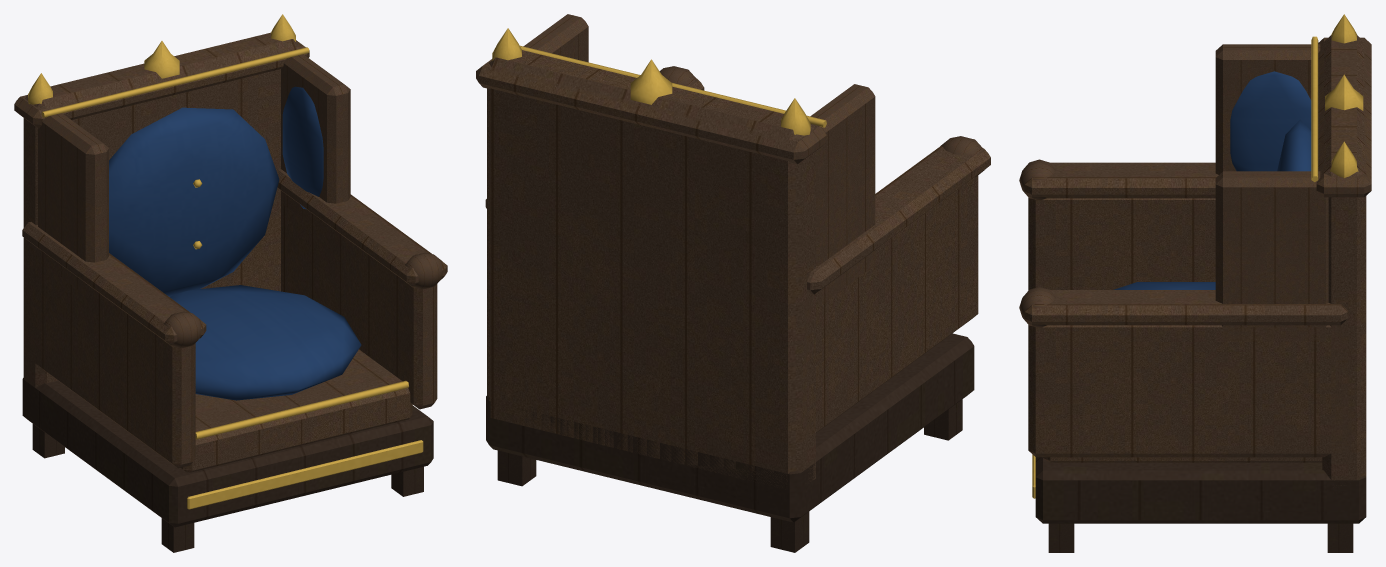
Rendered from armchair_lod1.glb.
3 renders of one model, left to right at view 1: azimuth 30°, elevation 25°; view 2: azimuth 150°, elevation 25°; view 3: azimuth 270°, elevation 25°, orthographic. The views are drawn at different scales.
Visible parts, largest first — view 1: armchair; view 2: armchair; view 3: armchair.
Part boxes in pixels (x1,y1,x2,y2): armchair: (14, 14, 447, 552); armchair: (476, 14, 990, 552); armchair: (1019, 14, 1371, 552).
Bounding box in the file's own units: 0.96 × 1.24 × 0.96.
Materials: 1 (1 with a texture image).
